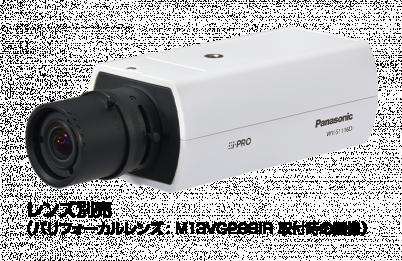tutu: (24, 24, 379, 194)
